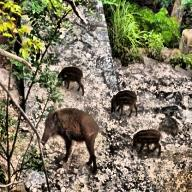boar: (34, 101, 106, 175), (58, 59, 97, 90), (107, 78, 136, 116), (136, 122, 165, 152)
